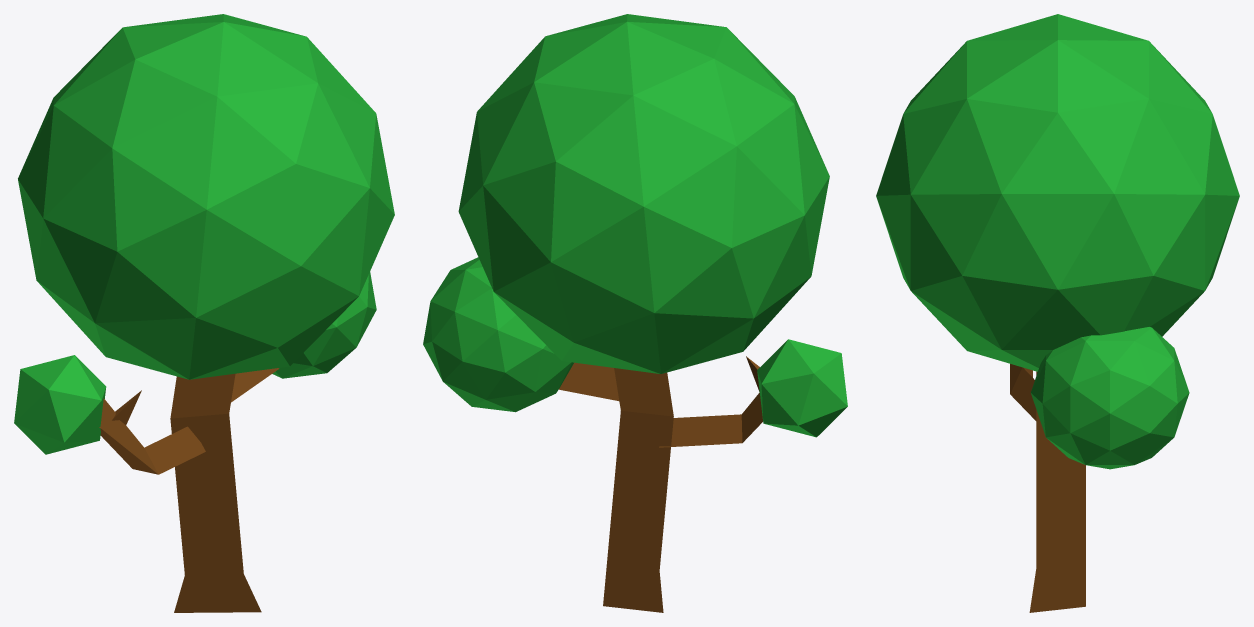
Rendered from Trees.fbx.
3 views of the same model, side by side, from view 1: azimuth 30°, elevation 25°; view 2: azimuth 150°, elevation 25°; view 3: azimuth 270°, elevation 25° (orthographic). The views are drawn at different scales.
Visible parts, largest first — view 1: Tree1_LOD0; view 2: Tree1_LOD0; view 3: Tree1_LOD0.
Boxes of the visible parts, bbox=[...] form: Tree1_LOD0: bbox=[14, 14, 394, 612]; Tree1_LOD0: bbox=[423, 14, 847, 612]; Tree1_LOD0: bbox=[876, 14, 1239, 612].
Size of what is drawn, in the model's own units: 1738 by 2516 by 1477.
